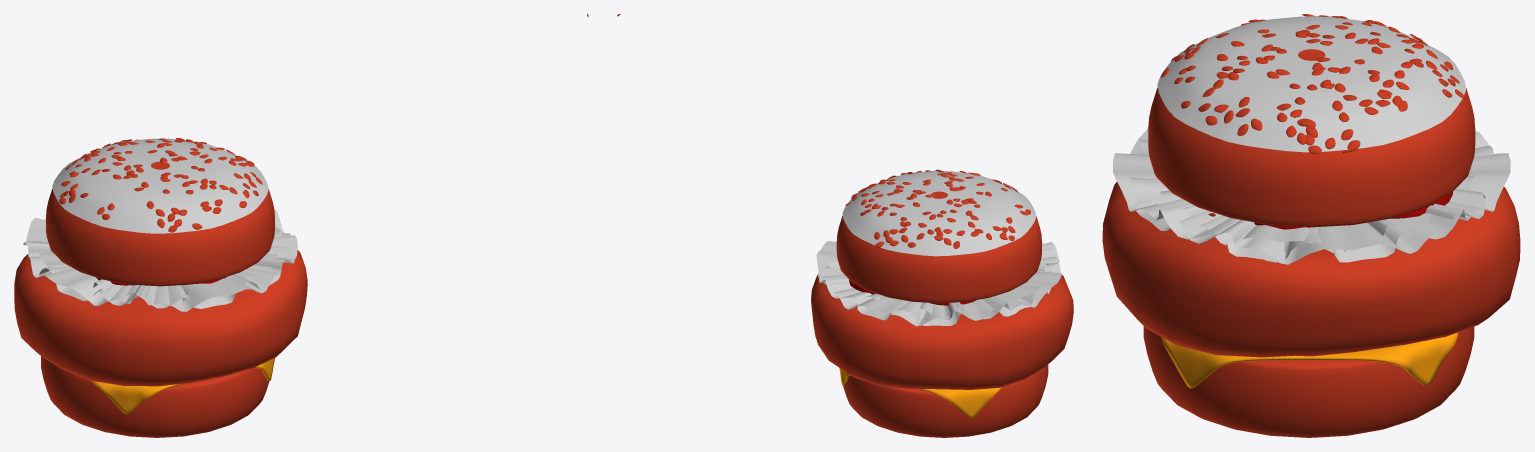
File: hamburger-1.obj
3 views of the same model, side by side, from view 1: azimuth 30°, elevation 25°; view 2: azimuth 150°, elevation 25°; view 3: azimuth 270°, elevation 25° (orthographic). The views are drawn at different scales.
Visible parts, largest first — view 1: meat_Circle.003, topping_particle_Circle.010, top_Circle.002, buttom_Circle.001, topping_Plane.002, veg.002_Circle.014, veg_Circle.012, chesse_Plane.001, veg.001_Circle.015; view 2: meat_Circle.003, topping_particle_Circle.010, top_Circle.002, buttom_Circle.001, veg.002_Circle.014, topping_Plane.002, veg_Circle.012, chesse_Plane.001, veg.001_Circle.015; view 3: meat_Circle.003, topping_particle_Circle.010, top_Circle.002, buttom_Circle.001, topping_Plane.002, veg_Circle.012, veg.002_Circle.014, chesse_Plane.001, veg.001_Circle.015, totato_Circle.009.
Boxes of the visible parts, x1,y1,x2,y2 form: meat_Circle.003: (14,250,307,386); topping_particle_Circle.010: (52,138,268,233); top_Circle.002: (46,161,274,286); buttom_Circle.001: (41,356,269,437); topping_Plane.002: (59,14,588,233); veg.002_Circle.014: (23,209,297,308); veg_Circle.012: (26,217,294,311); chesse_Plane.001: (91,358,274,414); veg.001_Circle.015: (39,224,281,302); meat_Circle.003: (811,274,1073,389); topping_particle_Circle.010: (842,170,1036,256); top_Circle.002: (836,191,1041,303); buttom_Circle.001: (843,364,1048,437); veg.002_Circle.014: (816,241,1061,325); topping_Plane.002: (617,14,1030,248); veg_Circle.012: (819,242,1059,326); chesse_Plane.001: (839,367,1002,418); veg.001_Circle.015: (830,257,1048,315); meat_Circle.003: (1102,182,1520,357); topping_particle_Circle.010: (1157,16,1465,152); top_Circle.002: (1148,49,1475,227); buttom_Circle.001: (1143,326,1474,437); topping_Plane.002: (1161,14,1465,216); veg_Circle.012: (1113,131,1510,262); veg.002_Circle.014: (1129,127,1494,264); chesse_Plane.001: (1160,332,1458,388); veg.001_Circle.015: (1148,157,1474,252); totato_Circle.009: (1254,192,1452,229).
Size of the model in its own units: 5.07 by 2.85 by 2.45.
